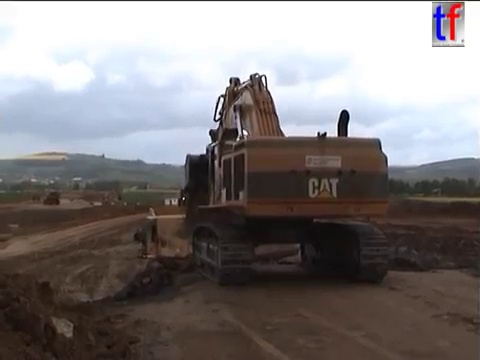excavator: (175, 69, 396, 288), (85, 188, 119, 210)
truck: (131, 206, 303, 288), (176, 187, 200, 209), (41, 190, 63, 206), (30, 192, 43, 204)
